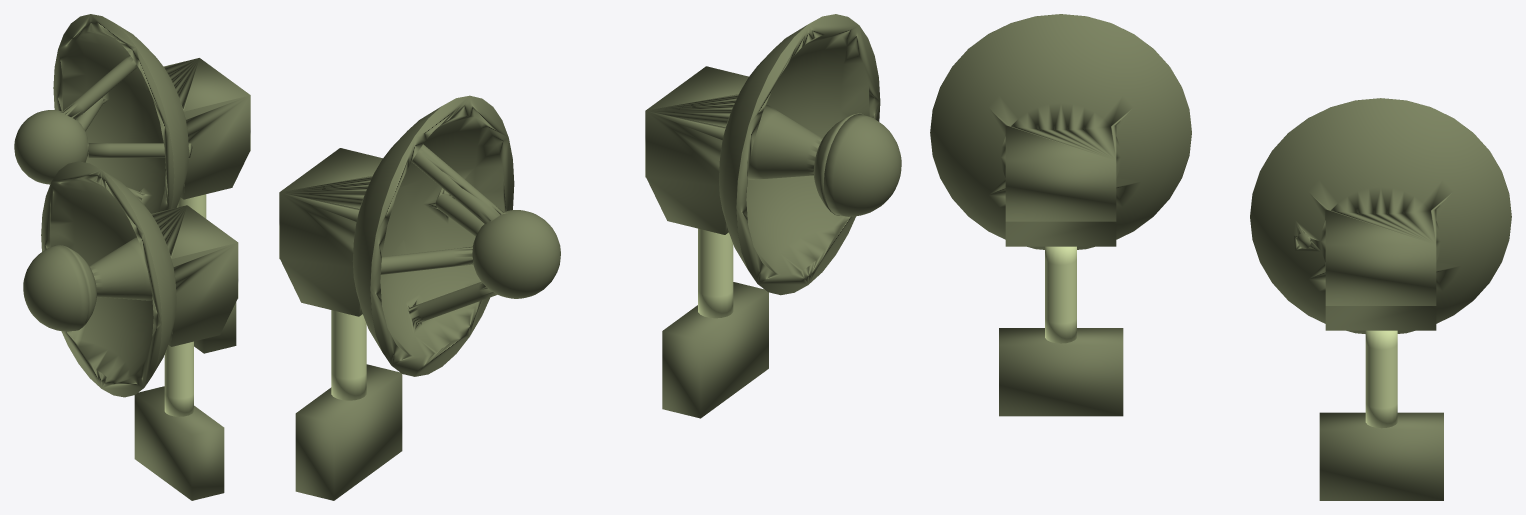
The model's file is Antenas.obj.
3 renders of one model, left to right at view 1: azimuth 30°, elevation 25°; view 2: azimuth 150°, elevation 25°; view 3: azimuth 270°, elevation 25°, orthographic. The views are drawn at different scales.
Visible parts, largest first — view 1: Box002, Box008, Box001, Cylinder001, Box006, Cylinder002; view 2: Box008, Box002, Box006, Box001, Cylinder002, Cylinder001; view 3: Box002, Box008, Box001, Box006, Cylinder002, Cylinder001.
Part boxes in pixels (x1,y1,x2,y2): Box002: (23, 161, 238, 397); Box008: (14, 14, 250, 213); Box001: (134, 386, 224, 500); Cylinder001: (164, 341, 193, 416); Box006: (194, 302, 236, 353); Cylinder002: (177, 194, 206, 218); Box008: (279, 95, 560, 376); Box002: (645, 14, 901, 295); Box006: (295, 364, 402, 500); Box001: (662, 282, 768, 418); Cylinder002: (331, 310, 366, 400); Cylinder001: (698, 228, 733, 318); Box002: (930, 14, 1191, 249); Box008: (1250, 98, 1511, 333); Box001: (999, 328, 1123, 416); Box006: (1319, 412, 1443, 500); Cylinder002: (1365, 330, 1397, 428); Cylinder001: (1045, 246, 1076, 343).
Bounding box in the file's own units: 62.67 × 56.72 × 84.73.
